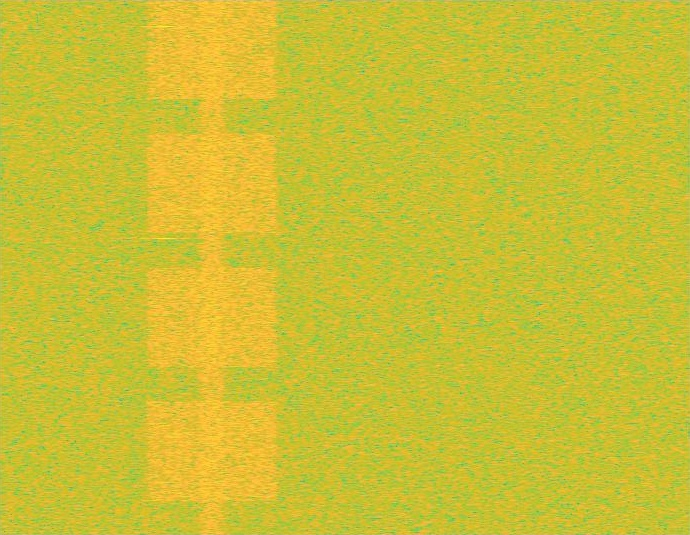5G: (143, 0, 281, 534)
DSSS: (197, 0, 228, 534)
Radar: (157, 0, 171, 534)
